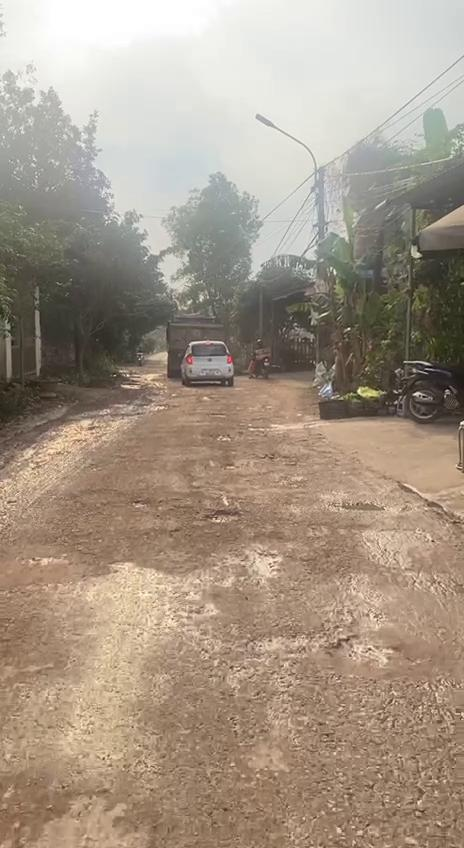pothole: (328, 627, 441, 687), (326, 496, 390, 515), (200, 505, 246, 525), (212, 430, 233, 443)
